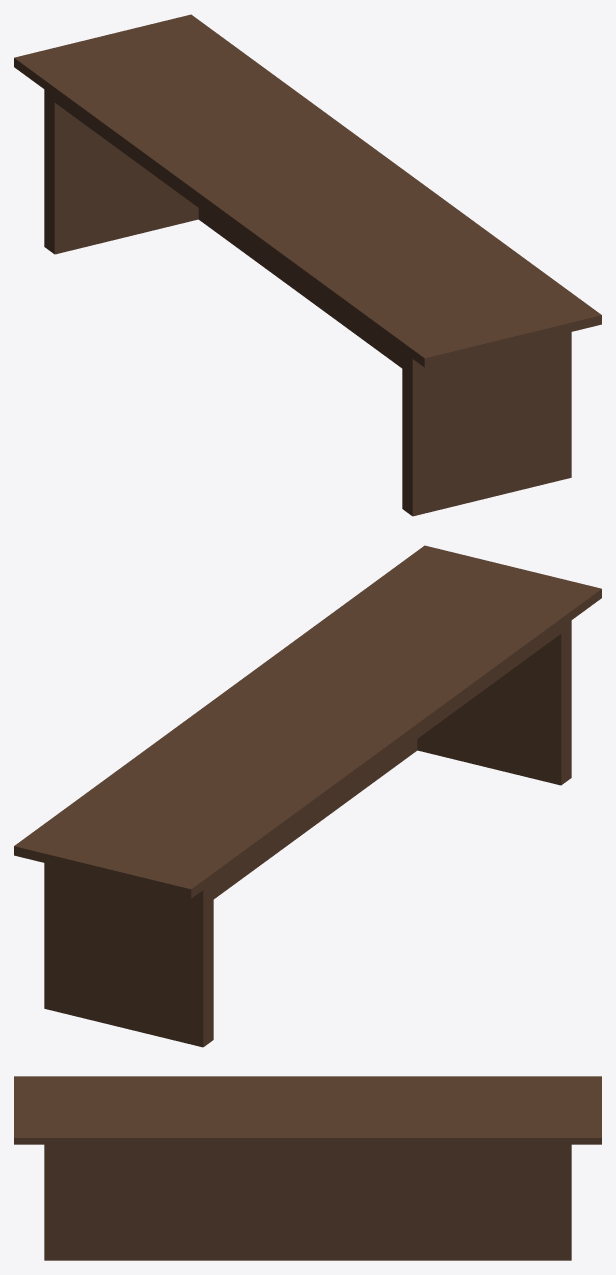
Rendered from duzystol.glb.
3 views of the same model, one above another, from view 1: azimuth 30°, elevation 25°; view 2: azimuth 150°, elevation 25°; view 3: azimuth 270°, elevation 25° (orthographic). The views are drawn at different scales.
Visible parts, largest first — view 1: Cube; view 2: Cube; view 3: Cube.
Part boxes in pixels (x1=…): Cube: x1=14, y1=14, x2=601, y2=516; Cube: x1=14, y1=545, x2=601, y2=1047; Cube: x1=14, y1=1076, x2=601, y2=1260.
Size of the model in its own units: 11.44 by 10.85 by 45.92.
